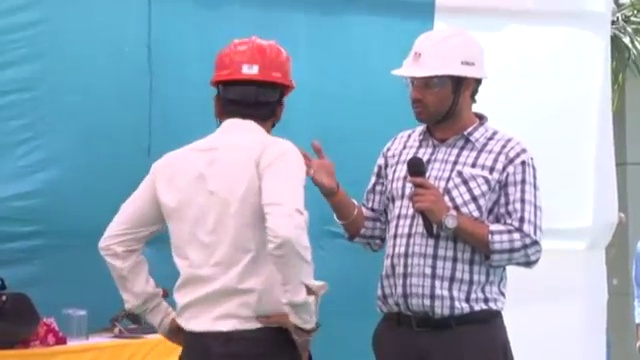helmet: (389, 26, 488, 83), (209, 34, 297, 94)
helmet_on: (389, 26, 489, 133), (208, 34, 295, 134)
person: (310, 25, 548, 360), (94, 34, 326, 360)
